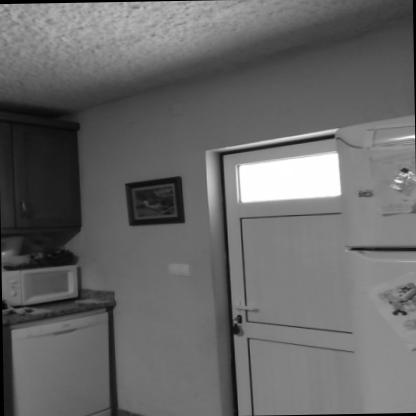closed: (196, 127, 411, 416)
